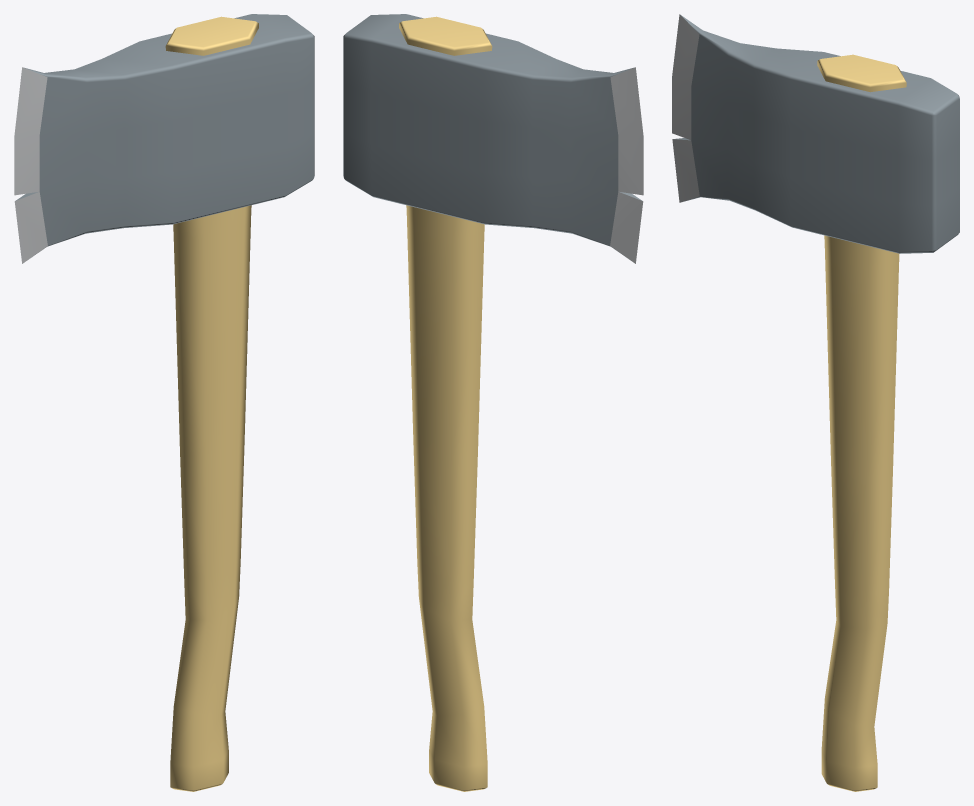
Rendered from SM_axe_001.obj.
3 renders of one model, left to right at view 1: azimuth 30°, elevation 25°; view 2: azimuth 150°, elevation 25°; view 3: azimuth 330°, elevation 25°, orthographic. The views are drawn at different scales.
Visible parts, largest first — view 1: SM_axe_001_M_Material; view 2: SM_axe_001_M_Material; view 3: SM_axe_001_M_Material.
Boxes of the visible parts, <box> form: SM_axe_001_M_Material: <box>14,14,314,791</box>; SM_axe_001_M_Material: <box>343,14,643,791</box>; SM_axe_001_M_Material: <box>672,14,959,791</box>.
Size of the model in its own units: 0.266 by 0.6694 by 0.0582.
1 material, 1 textured.
